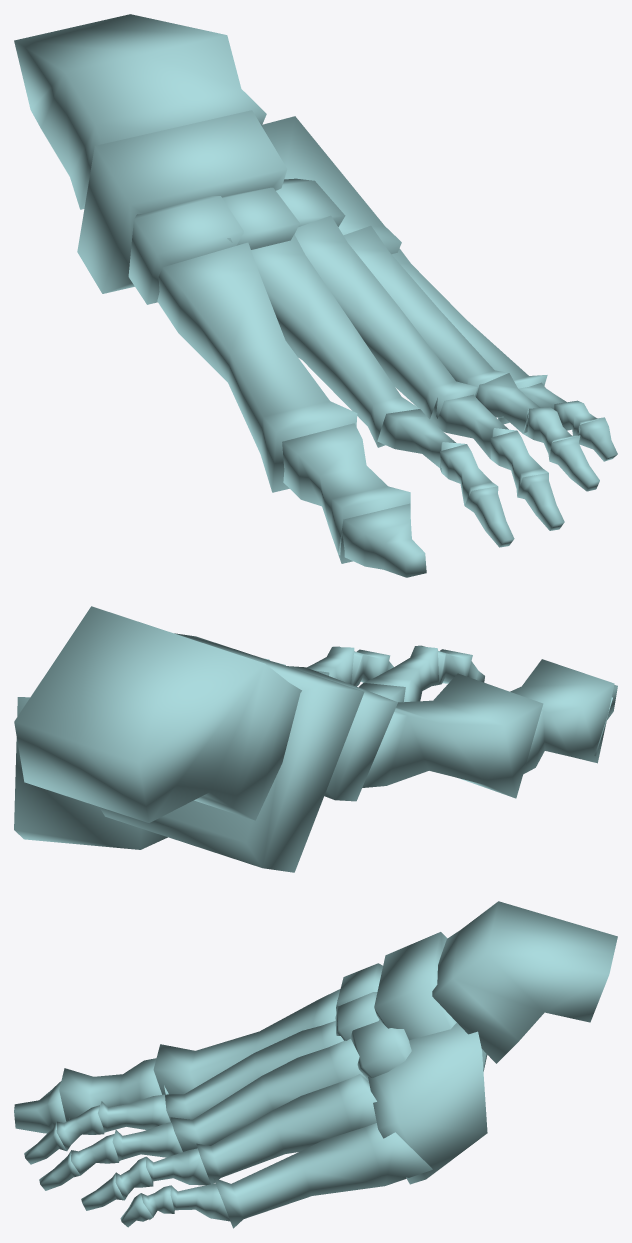
File: Skelly_foot.L.fbx
3 views of the same model, one above another, from view 1: azimuth 30°, elevation 25°; view 2: azimuth 150°, elevation 25°; view 3: azimuth 270°, elevation 25° (orthographic). The views are drawn at different scales.
Parts seen in each view (by area): view 1: Skelly_foot.L; view 2: Skelly_foot.L; view 3: Skelly_foot.L.
Boxes of the visible parts, x1,y1,x2,y2 form: Skelly_foot.L: (14,14,617,577); Skelly_foot.L: (14,606,617,872); Skelly_foot.L: (14,901,617,1228).
Bounding box in the file's own units: 9.95 × 8.76 × 21.62.
